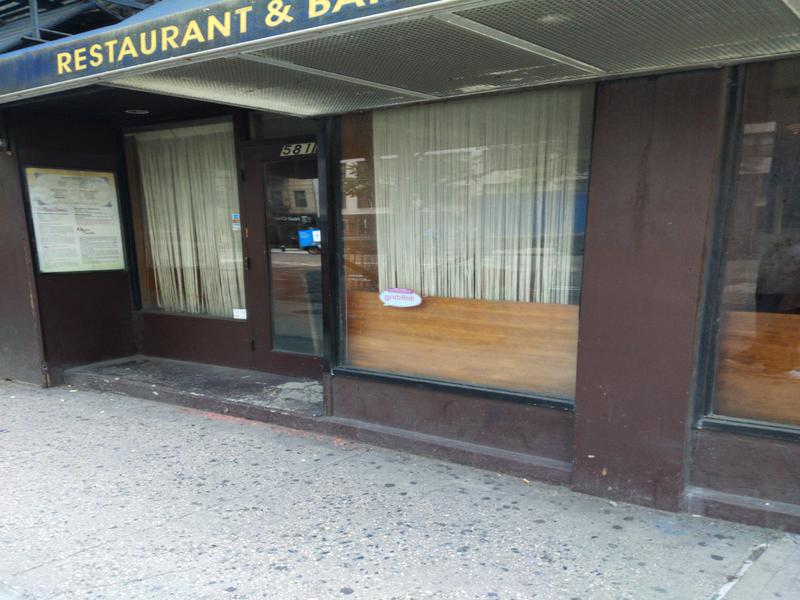door: (238, 136, 353, 381)
